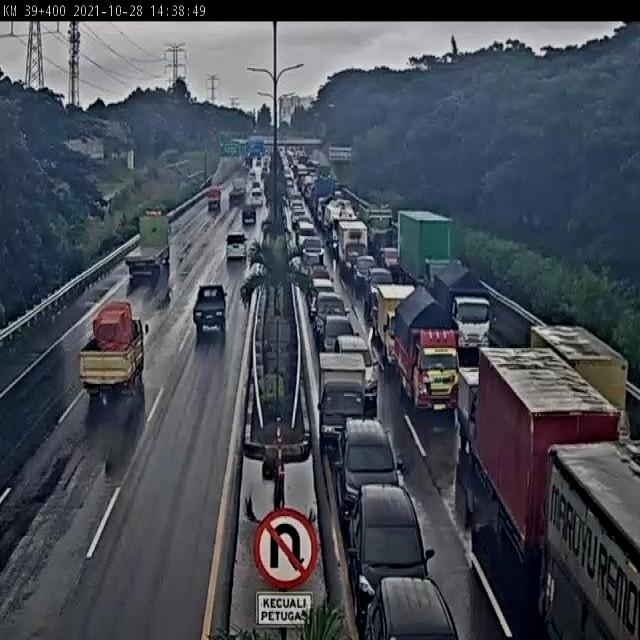Car: (336, 333, 379, 409), (192, 281, 228, 333), (321, 314, 359, 356), (365, 266, 396, 309), (311, 289, 345, 322), (300, 236, 325, 264), (242, 205, 258, 226)
Truck: (476, 344, 619, 547), (544, 444, 640, 640), (397, 284, 457, 426), (529, 324, 628, 406), (74, 305, 155, 400), (435, 259, 498, 346), (316, 352, 364, 444), (397, 212, 455, 286), (124, 206, 170, 287), (378, 285, 417, 359), (340, 220, 371, 279), (357, 197, 394, 245), (228, 176, 246, 200), (205, 188, 220, 212)
Van: (226, 230, 248, 264)
